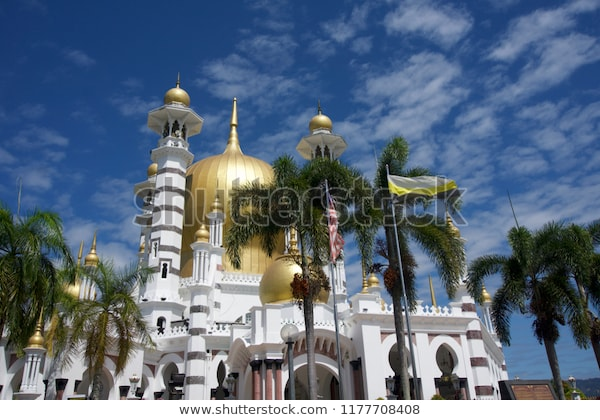Mosque: (57, 83, 494, 393)
